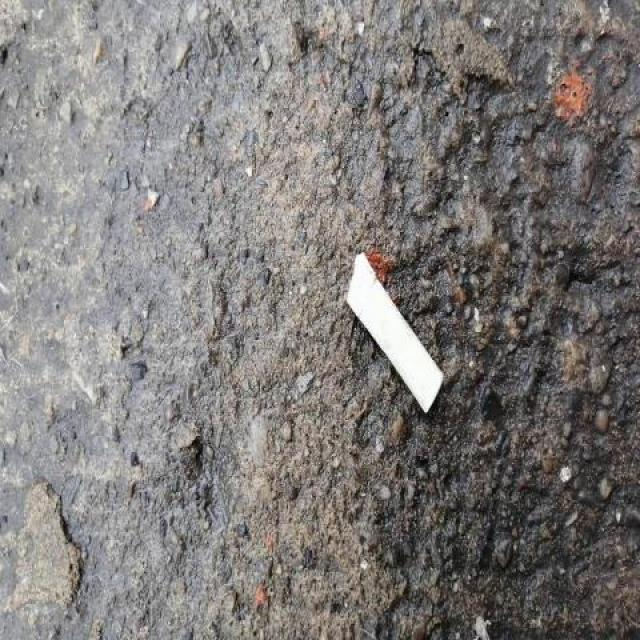non-organic waste: (341, 248, 447, 416)
